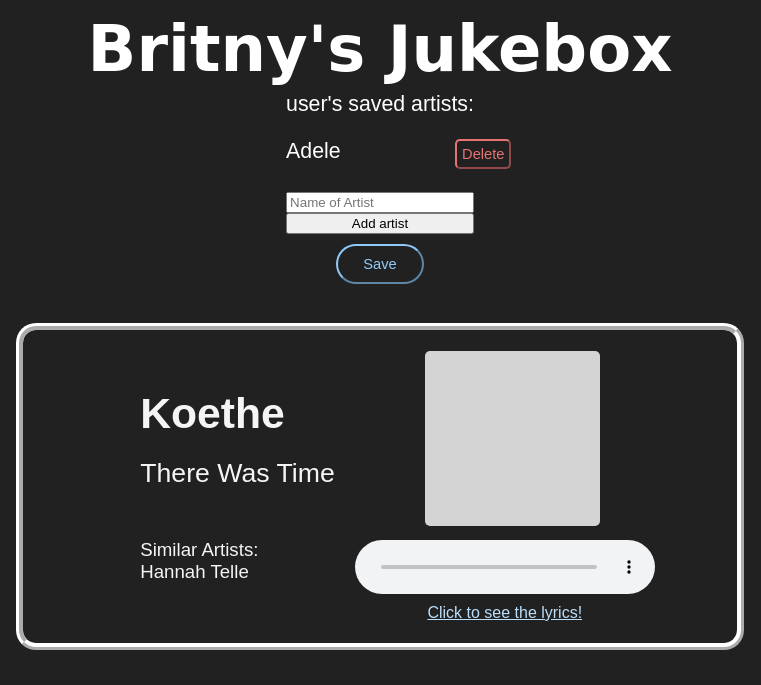
Test: artist added text appears
Check: the button "Add artist" is shown, box [286, 213, 474, 234]
Type "artist-add-name" into the field with test id "Add-Button" at coordinates (380, 202), box [286, 192, 474, 213]
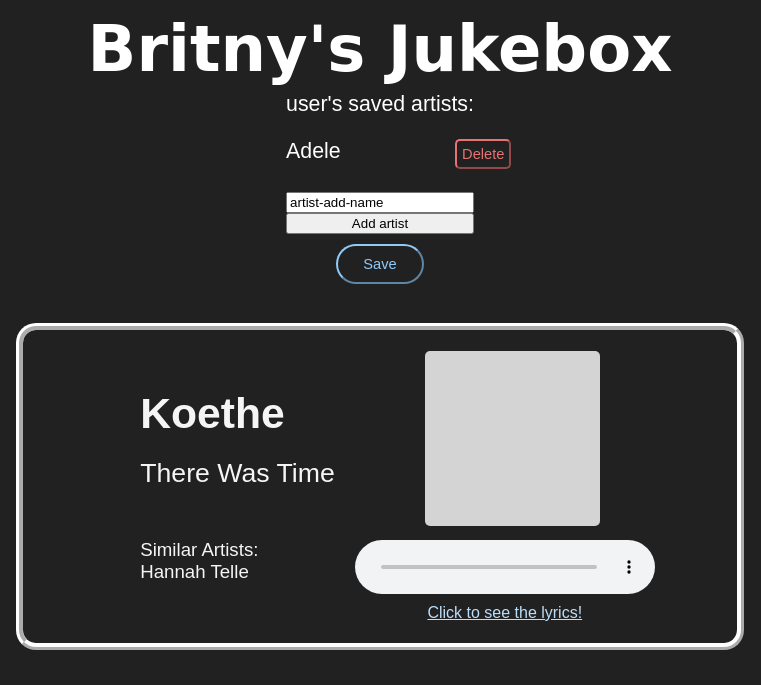
Click the button "Add artist" at coordinates (380, 224), box [286, 213, 474, 234]
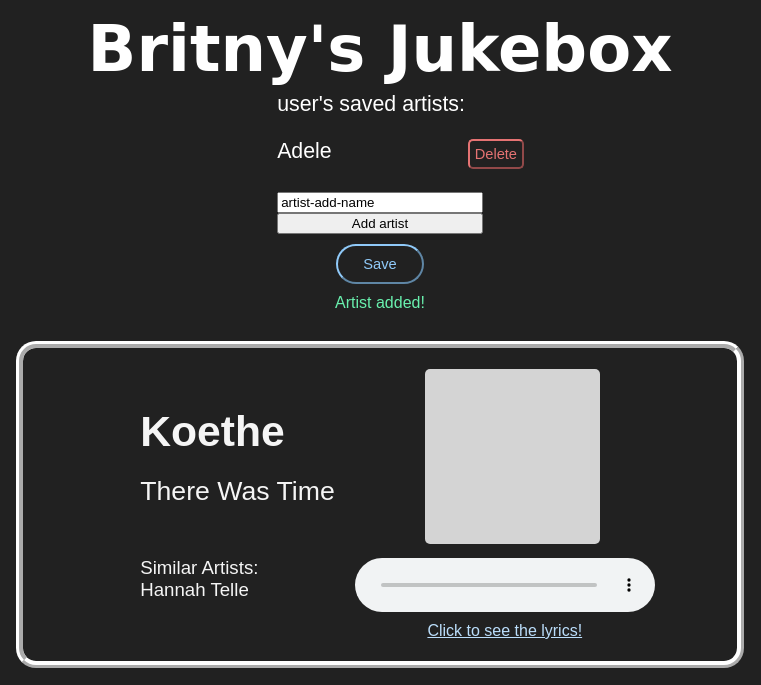
Check: the text "Artist added!" is shown, box [335, 294, 425, 311]
